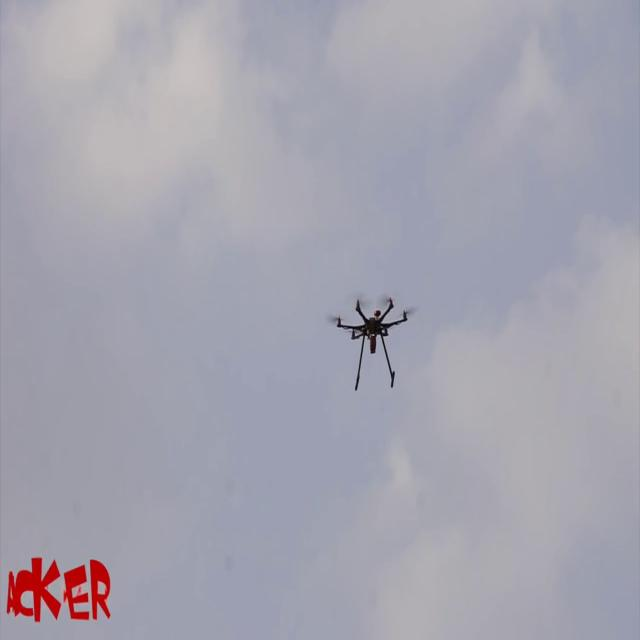drone: (331, 291, 418, 395)
